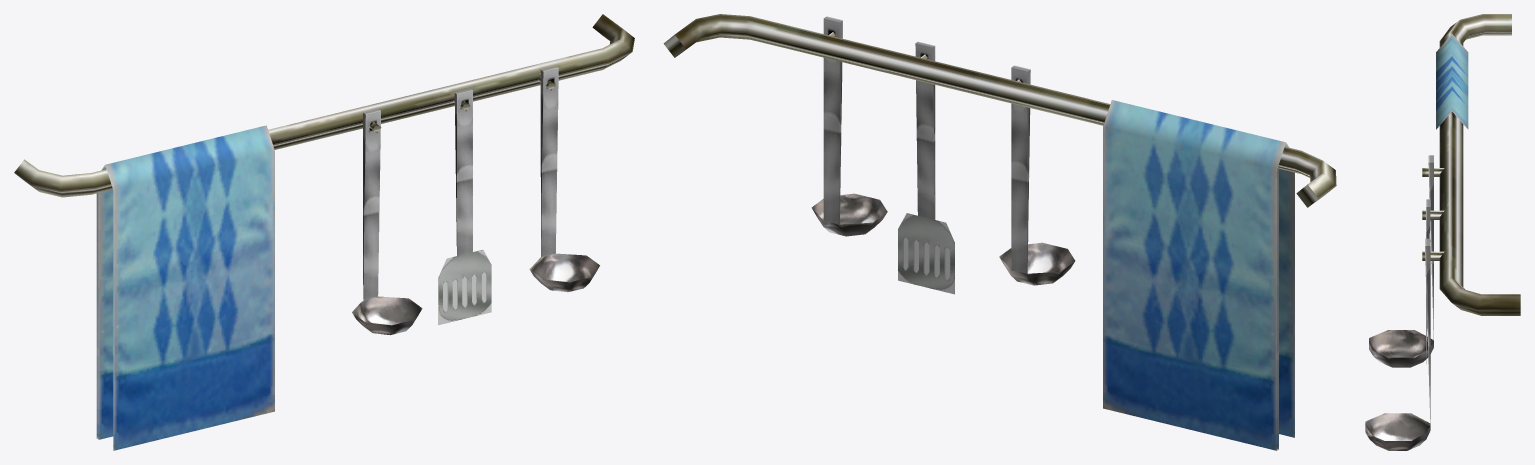
Rendered from furni_0200135_03.FBX.
The picture shows the model from 3 angles, left to right: view 1: azimuth 30°, elevation 25°; view 2: azimuth 150°, elevation 25°; view 3: azimuth 270°, elevation 25°; orthographic projection. The views are drawn at different scales.
Parts seen in each view (by area): view 1: furni_0200135_03; view 2: furni_0200135_03; view 3: furni_0200135_03.
Part boxes in pixels (x1=…): furni_0200135_03: x1=14, y1=14, x2=634, y2=450; furni_0200135_03: x1=663, y1=14, x2=1336, y2=450; furni_0200135_03: x1=1365, y1=14, x2=1520, y2=450.
Size of the model in its own units: 82.03 by 36.39 by 18.51.
1 material, 1 textured.
